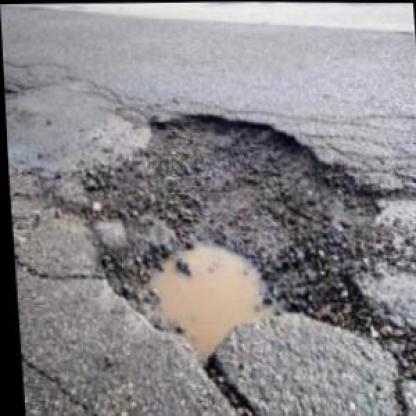pothole: (71, 101, 395, 372)
